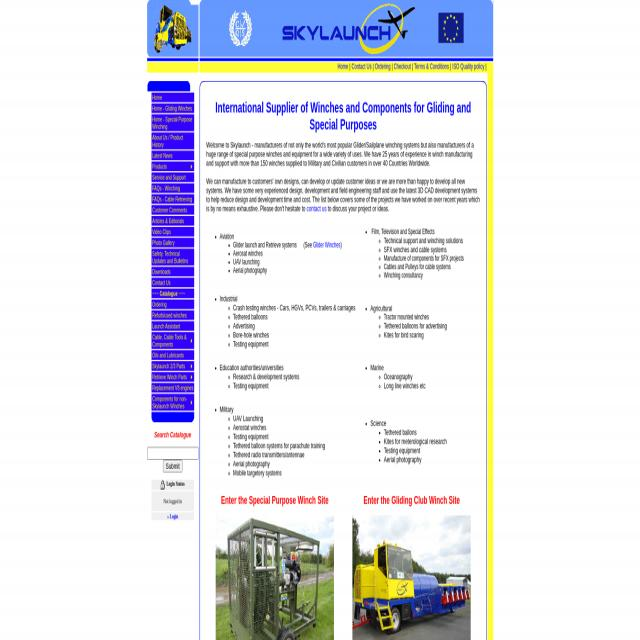button: (352, 516, 470, 640), (216, 517, 333, 640), (229, 3, 464, 54), (146, 0, 198, 57), (147, 81, 190, 92), (152, 412, 194, 422), (163, 460, 182, 473), (161, 480, 165, 489)
field: (147, 447, 199, 459)
